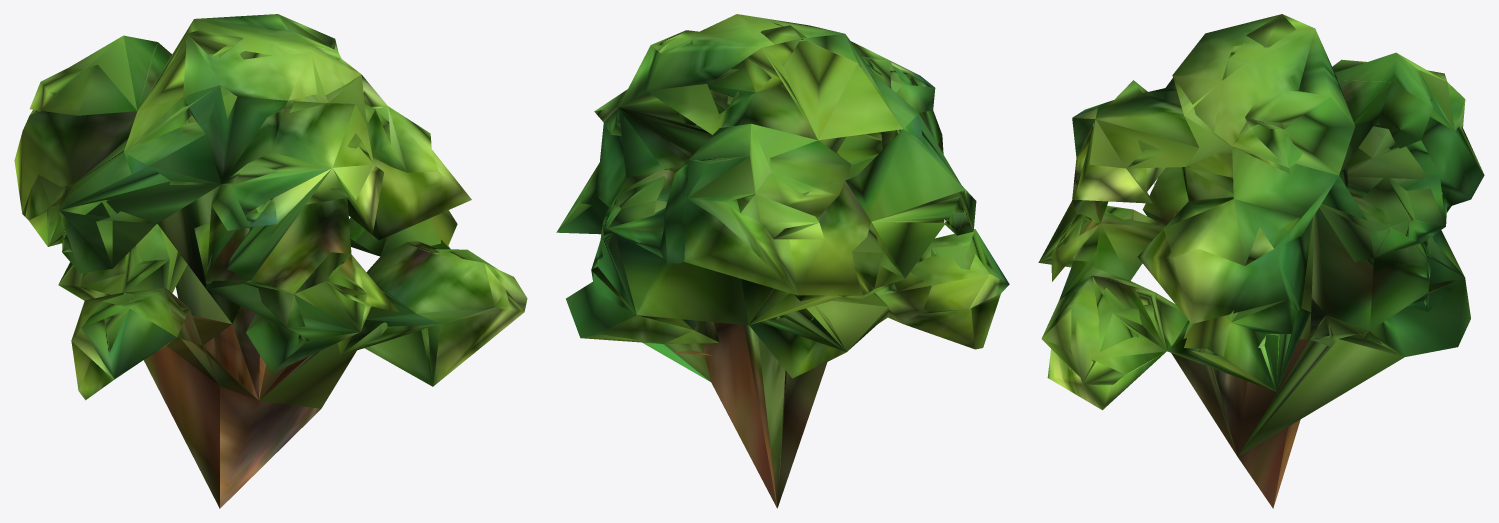
File: baum-laub.glb
3 renders of one model, left to right at view 1: azimuth 30°, elevation 25°; view 2: azimuth 150°, elevation 25°; view 3: azimuth 270°, elevation 25°, orthographic.
Visible parts, largest first — view 1: Mesh_0; view 2: Mesh_0; view 3: Mesh_0.
Boxes of the visible parts, bbox=[...] form: Mesh_0: bbox=[14, 14, 527, 508]; Mesh_0: bbox=[556, 14, 1009, 508]; Mesh_0: bbox=[1038, 14, 1484, 508].
Bounding box in the file's own units: 1.52 × 1.76 × 1.48.
Materials: 1 (1 with a texture image).
